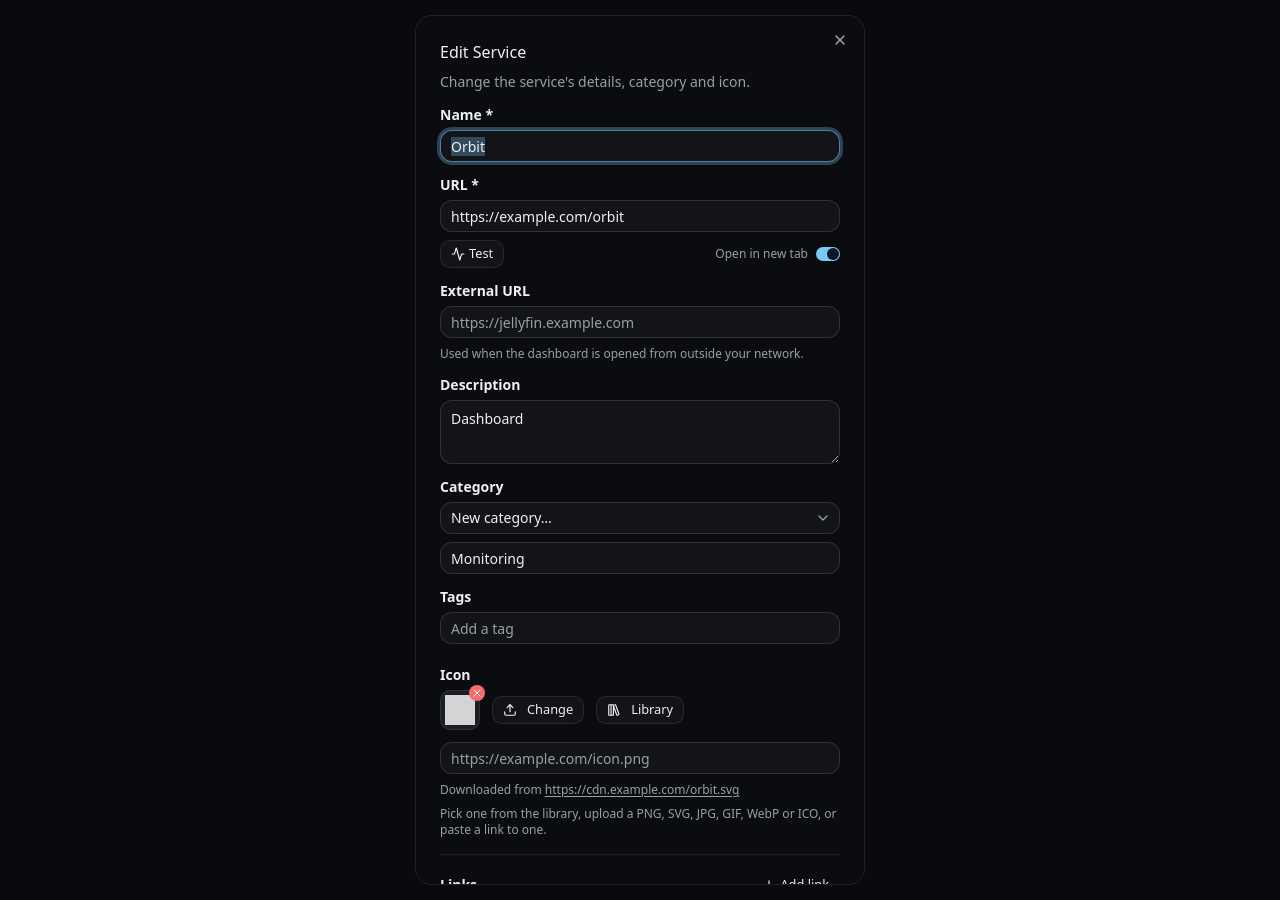
Test: ServiceDialog › shows where a downloaded icon came from until the icon is changed
Check: the text "Downloaded from https://cdn.example.com/orbit.svg" is shown, box [440, 781, 739, 798]
Type "https://example.com/new.svg" into the field named "Icon URL". click: x=640, y=758
box: [440, 742, 840, 774]
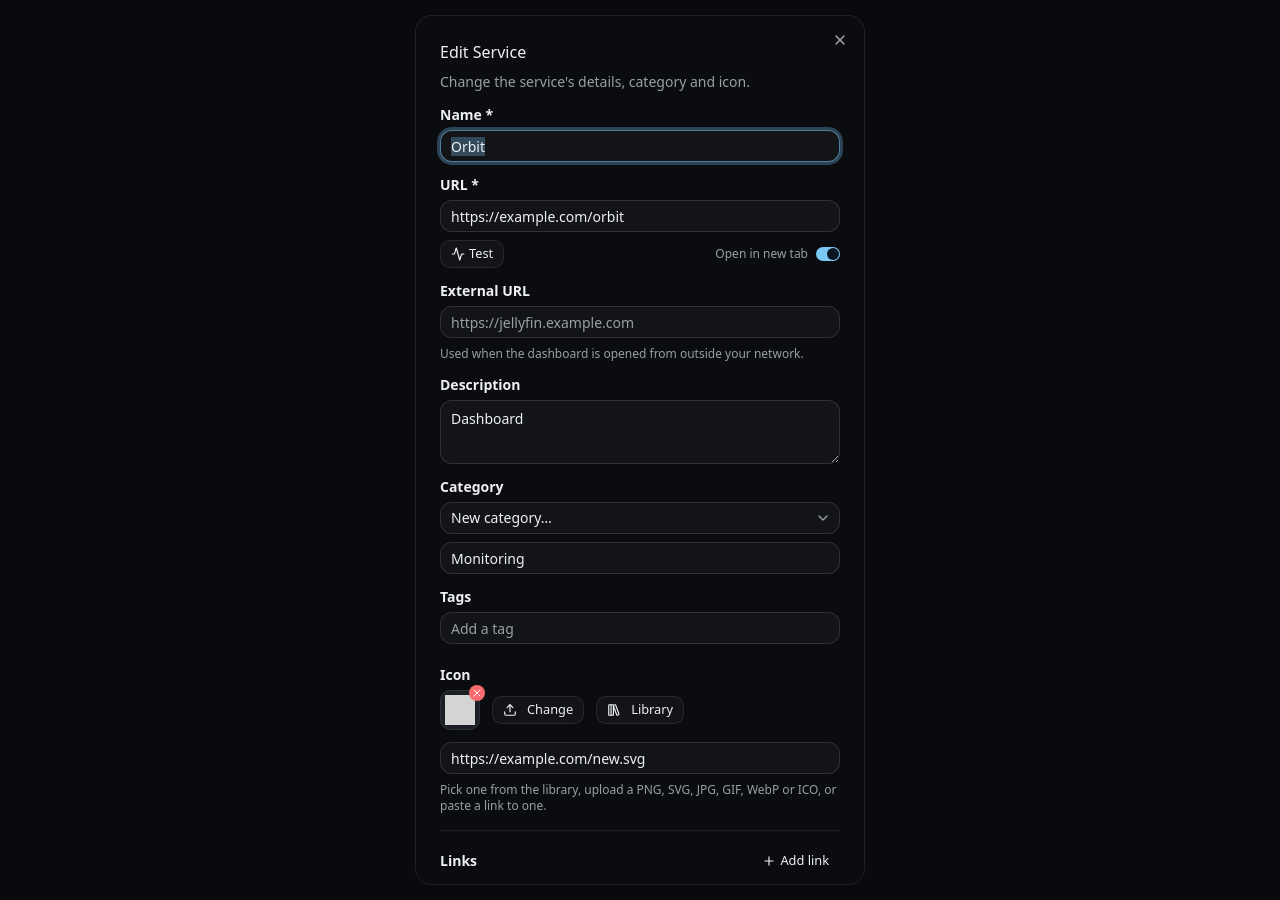
Check: the text "Downloaded from" is gone
Clear the 2nd field named "Icon URL". click: x=640, y=758
box: [440, 742, 840, 774]
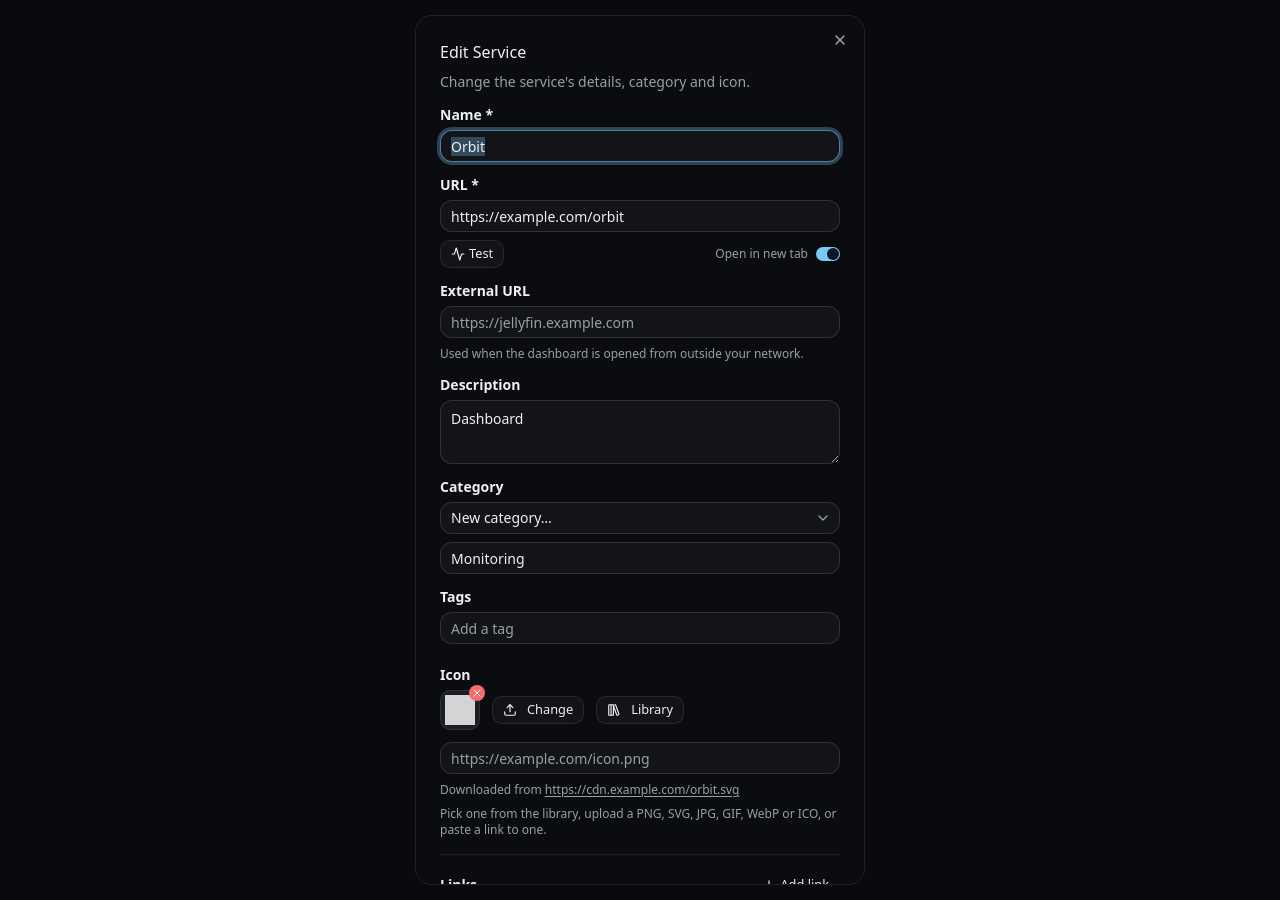
Check: the text "Downloaded from https://cdn.example.com/orbit.svg" is shown, box [440, 781, 739, 798]
Click the button named "Remove icon". click: x=477, y=693
box: [469, 685, 485, 701]
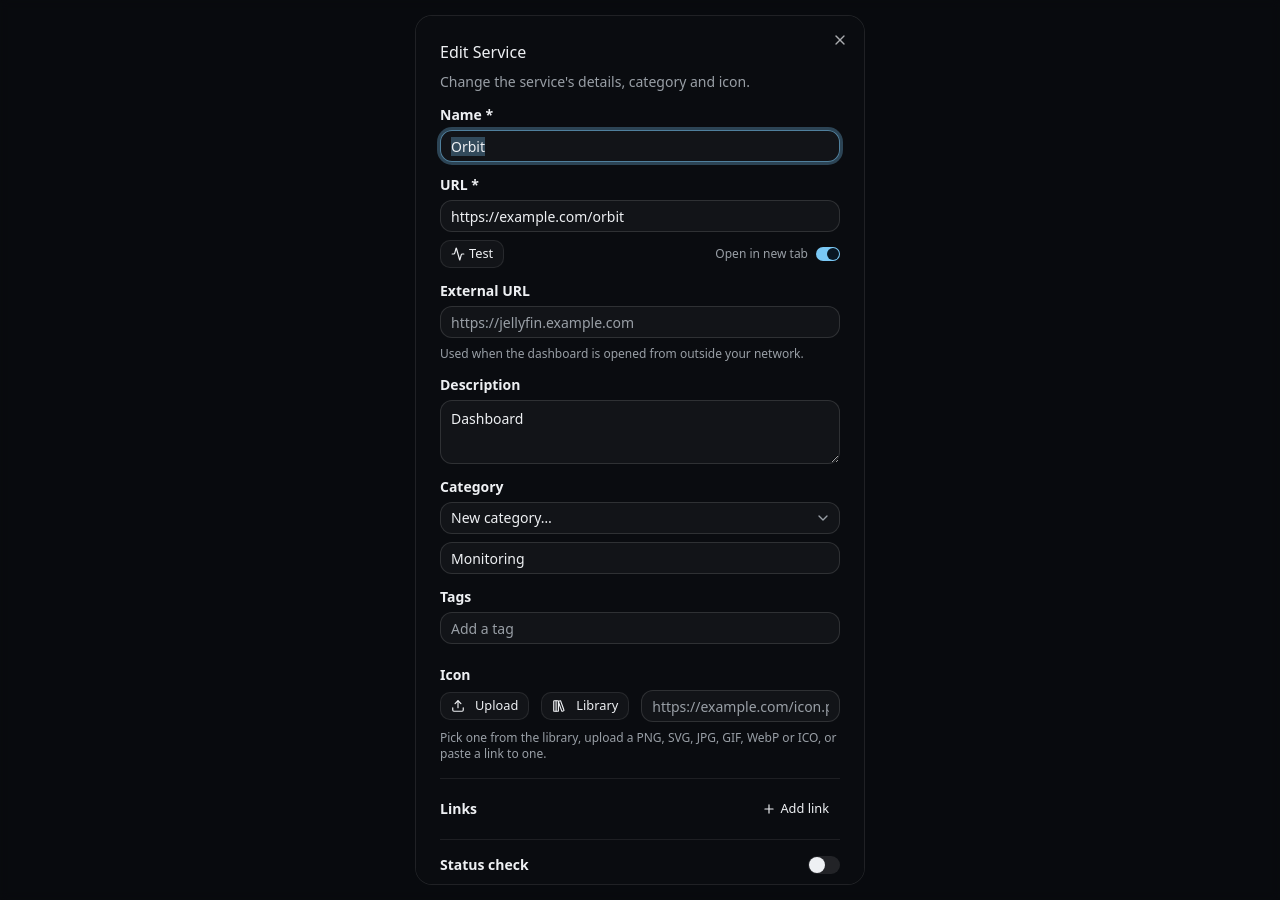
Check: the text "Downloaded from" is gone
